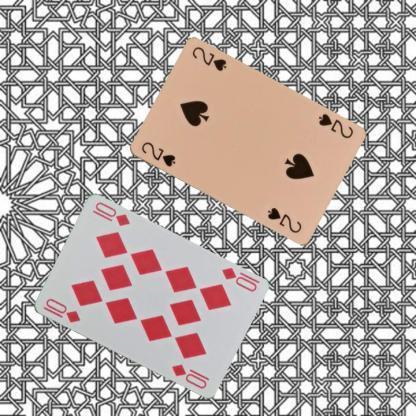10d: (218, 264, 258, 294), (42, 296, 82, 324)
2s: (138, 139, 177, 168), (316, 111, 354, 140)
